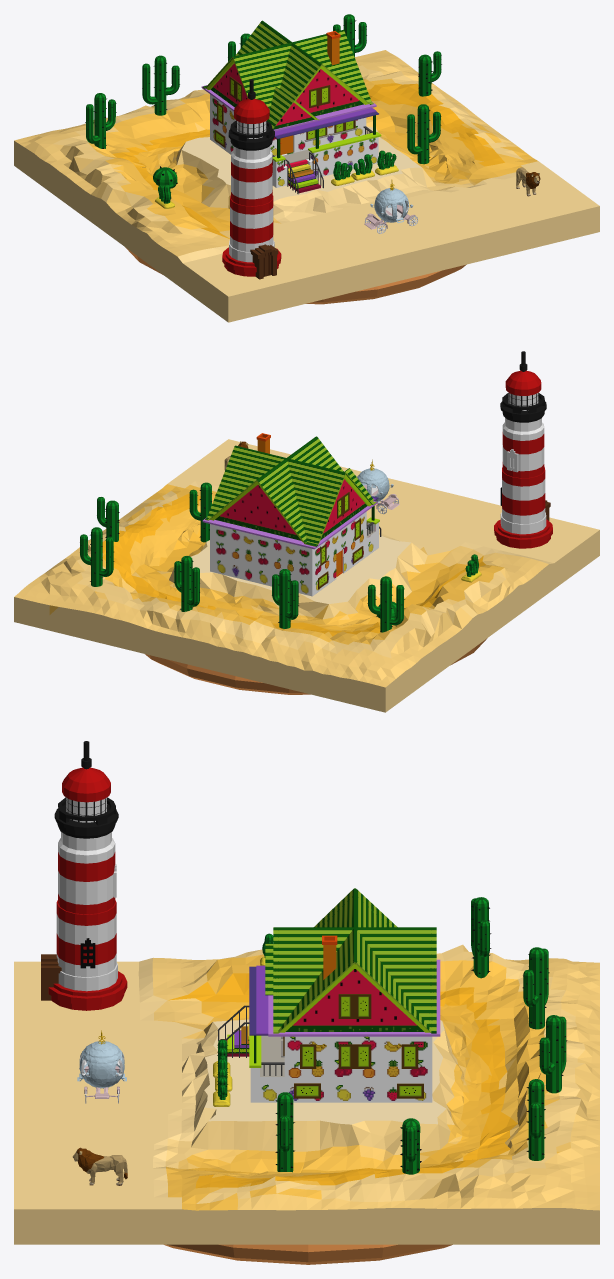
The picture shows the model from 3 angles, top to bottom: view 1: azimuth 30°, elevation 25°; view 2: azimuth 150°, elevation 25°; view 3: azimuth 270°, elevation 25°; orthographic projection. The views are drawn at different scales.
Visible parts, largest first — view 1: Cube.001, Cube.1063, OBJRANDOM_LIGHTHOUSE, UNDERGROUND_PIZZA, VEHICLES_FANTASY_CARRIAGE, Cylinder.044, Cylinder.037, Cylinder.045, Cylinder.038, Cylinder.042, ANIMAL_LEON, Cylinder.041 (+3 smaller); view 2: Cube.001, Cube.1063, OBJRANDOM_LIGHTHOUSE, UNDERGROUND_PIZZA, Cylinder.042, Cylinder.045, Cylinder.044, Cylinder.043, VEHICLES_FANTASY_CARRIAGE, Cylinder.037, Cylinder.038; view 3: Cube.001, Cube.1063, OBJRANDOM_LIGHTHOUSE, UNDERGROUND_PIZZA, VEHICLES_FANTASY_CARRIAGE, Cylinder.043, Cylinder.044, Cylinder.045, Cylinder.042, Cylinder.037, ANIMAL_LEON, Cylinder.038.
Part boxes in pixels (x1=…): Cube.001: x1=14, y1=50, x2=599, y2=322; Cube.1063: x1=201, y1=20, x2=381, y2=194; OBJRANDOM_LIGHTHOUSE: x1=222, y1=79, x2=281, y2=279; UNDERGROUND_PIZZA: x1=125, y1=247, x2=466, y2=304; VEHICLES_FANTASY_CARRIAGE: x1=364, y1=179, x2=418, y2=233; Cylinder.044: x1=142, y1=55, x2=179, y2=115; Cylinder.037: x1=406, y1=104, x2=441, y2=164; Cylinder.045: x1=85, y1=93, x2=116, y2=148; Cylinder.038: x1=418, y1=51, x2=441, y2=96; Cylinder.042: x1=333, y1=14, x2=366, y2=57; ANIMAL_LEON: x1=516, y1=167, x2=540, y2=196; Cylinder.041: x1=375, y1=150, x2=398, y2=175; Cube.001: x1=14, y1=439, x2=599, y2=712; Cube.1063: x1=202, y1=433, x2=381, y2=596; OBJRANDOM_LIGHTHOUSE: x1=494, y1=351, x2=552, y2=548; UNDERGROUND_PIZZA: x1=145, y1=638, x2=487, y2=694; Cylinder.042: x1=80, y1=527, x2=114, y2=586; Cylinder.045: x1=367, y1=576, x2=404, y2=632; Cylinder.044: x1=272, y1=569, x2=298, y2=628; Cylinder.043: x1=174, y1=556, x2=199, y2=611; VEHICLES_FANTASY_CARRIAGE: x1=357, y1=459, x2=399, y2=514; Cylinder.037: x1=189, y1=482, x2=216, y2=542; Cylinder.038: x1=97, y1=497, x2=119, y2=541; Cube.001: x1=14, y1=944, x2=599, y2=1244; Cube.1063: x1=217, y1=888, x2=440, y2=1102; OBJRANDOM_LIGHTHOUSE: x1=41, y1=741, x2=127, y2=1010; UNDERGROUND_PIZZA: x1=164, y1=1244, x2=452, y2=1264; VEHICLES_FANTASY_CARRIAGE: x1=77, y1=1030, x2=126, y2=1103; Cylinder.043: x1=538, y1=1015, x2=567, y2=1093; Cylinder.044: x1=522, y1=947, x2=549, y2=1029; Cylinder.045: x1=471, y1=897, x2=491, y2=978; Cylinder.042: x1=526, y1=1079, x2=545, y2=1160; Cylinder.037: x1=275, y1=1092, x2=294, y2=1172; ANIMAL_LEON: x1=72, y1=1147, x2=127, y2=1185; Cylinder.038: x1=400, y1=1118, x2=421, y2=1174.
Bounding box in the file's own units: 4002 × 2462 × 4001.
Materials: 36 (4 with a texture image).
